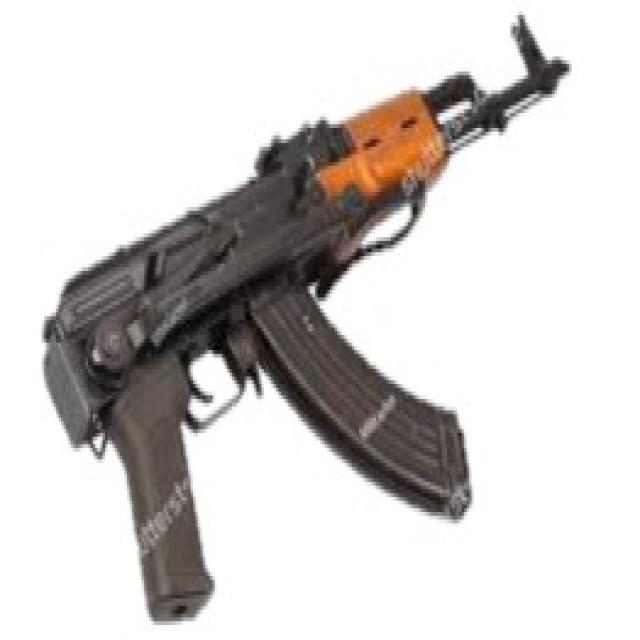rifle: (35, 8, 582, 636)
